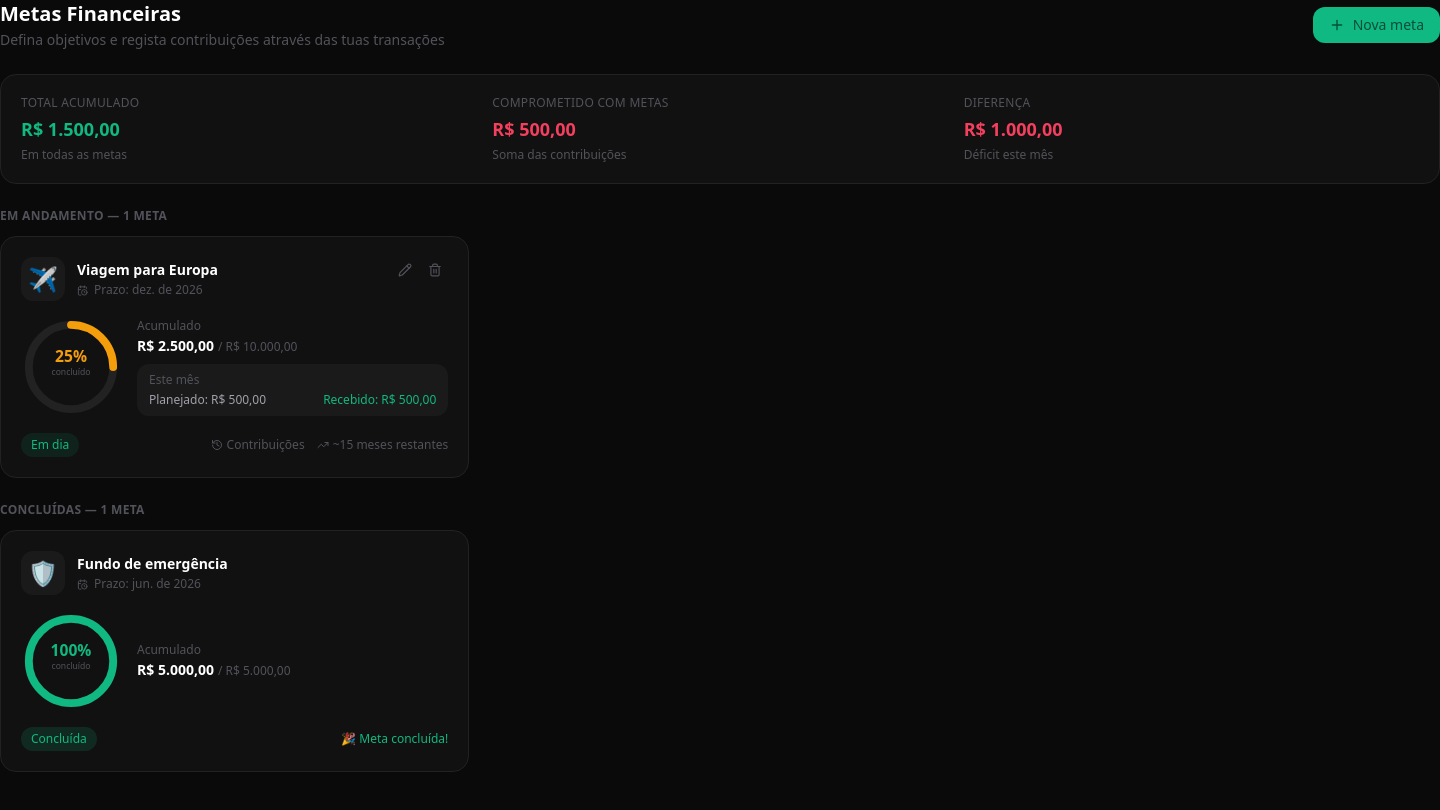
GoalsPage › deve abrir modal de edição ao clicar em editar
Click the button titled "Editar": (405, 270) 392,257 -> 418,283
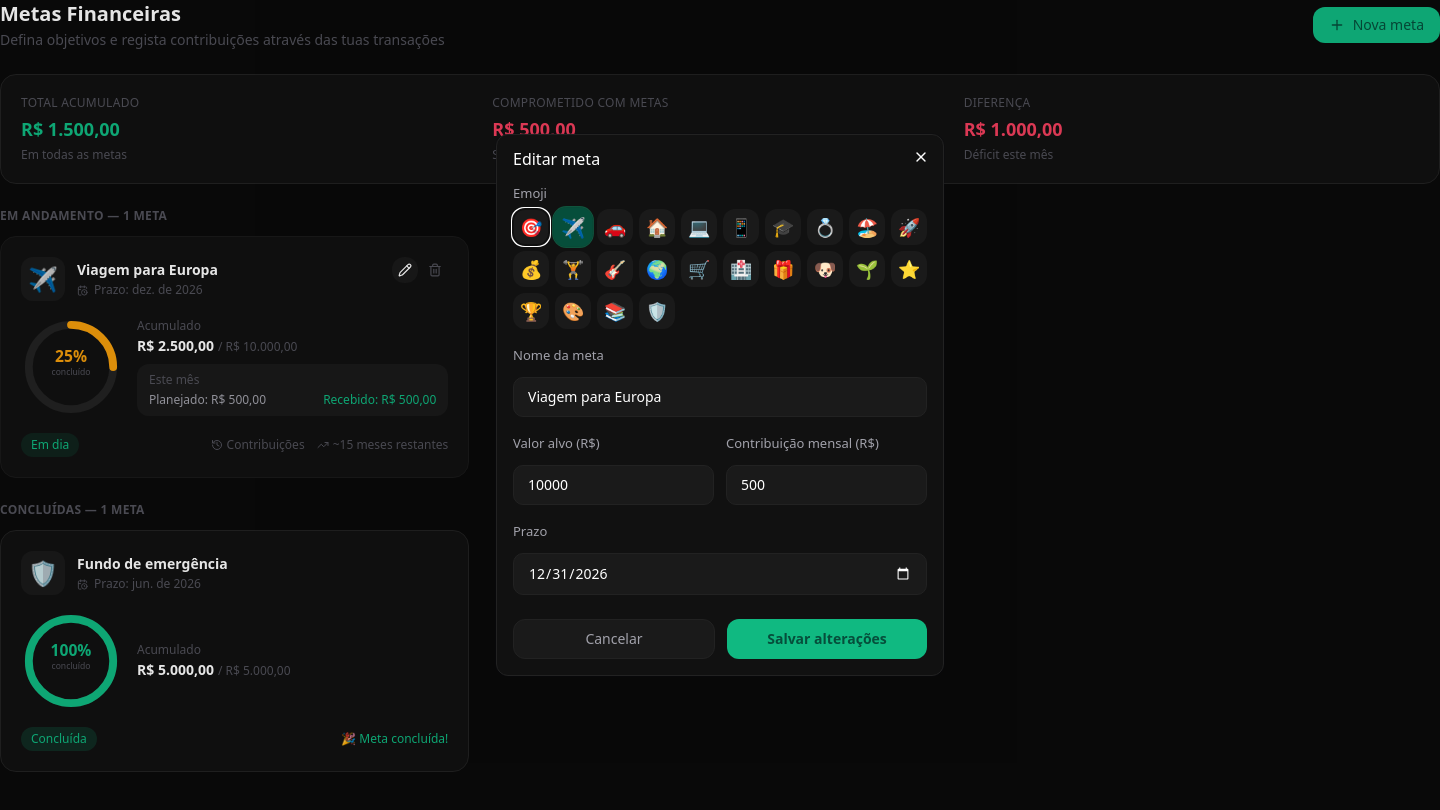
Now the heading "Editar meta" is shown, box 513,148 -> 600,170
